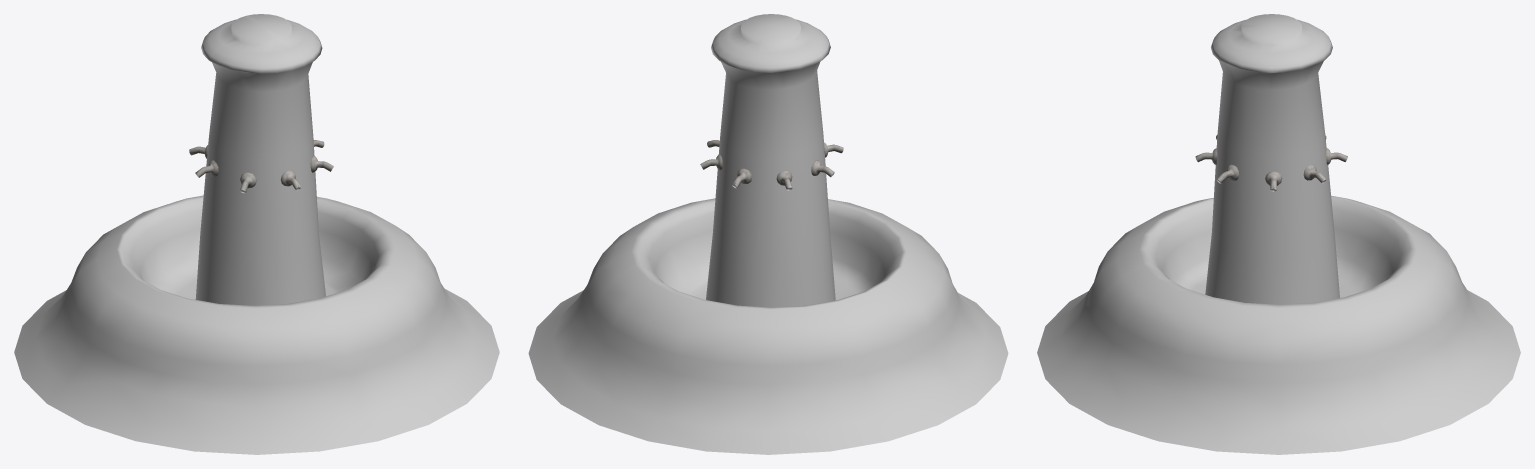
The model's file is fountain_02.fbx.
3 views of the same model, side by side, from view 1: azimuth 30°, elevation 25°; view 2: azimuth 150°, elevation 25°; view 3: azimuth 270°, elevation 25° (orthographic).
Visible parts, largest first — view 1: Mesh; view 2: Mesh; view 3: Mesh.
Boxes of the visible parts, box(x1,y1,x2,y2) form: Mesh: box(14, 14, 499, 454); Mesh: box(528, 14, 1008, 454); Mesh: box(1037, 14, 1520, 454).
Size of the model in its own units: 527 by 395 by 527.
